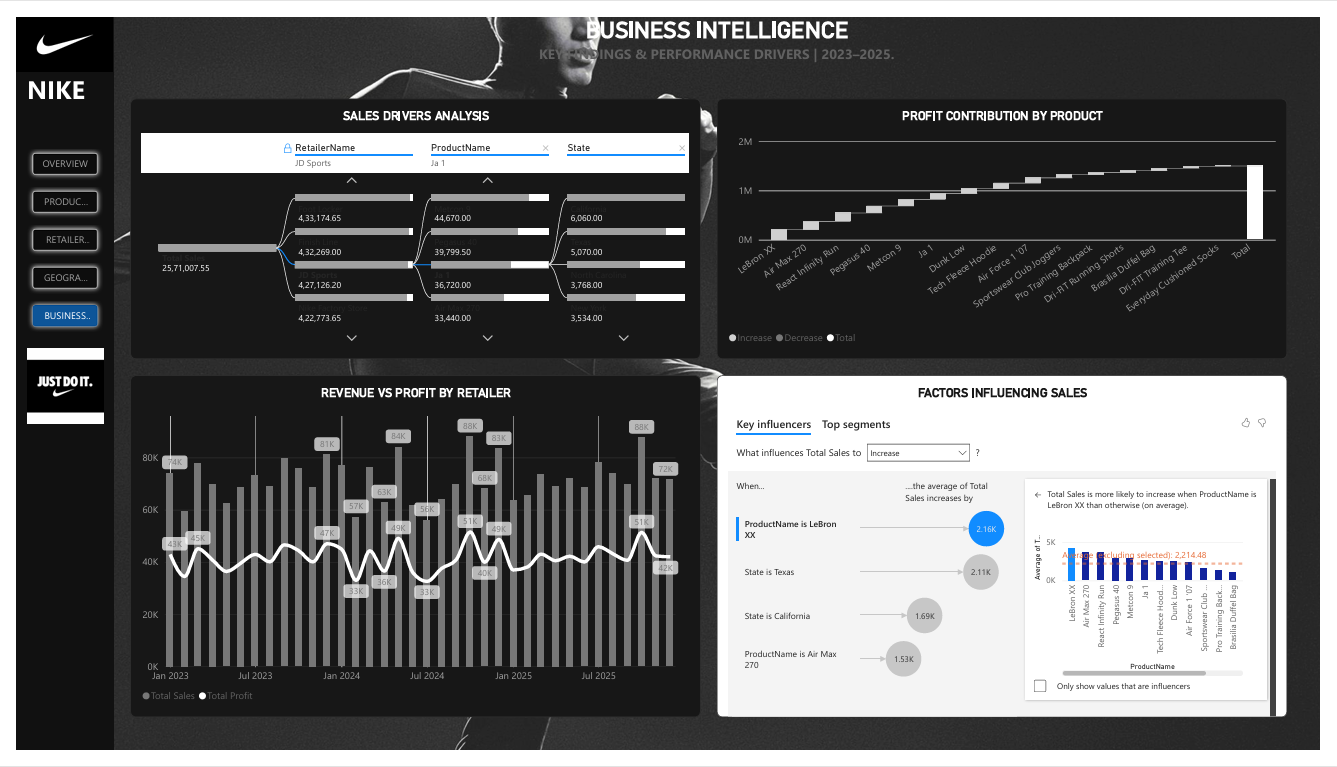

This screenshot's page, from the dashboard's own definition file:
{"tool":"powerbi","page":{"name":"BUSINESS INSIGHTS","canvas":[1920,1080],"ordinal":4},"visuals":[{"type":"group","id":"g1","title":"Group 1","box":[0,0,144,1080],"z":0},{"type":"image","box":[0,0,144,80],"z":1000},{"type":"textbox","title":"BUSINESS INSIGHTS","box":[144,0,1776,72],"z":2000},{"type":"decompositionTreeVisual","title":"SALES DRIVERS ANALYSIS","fields":{"Analyze":["FactOrders.Total Sales"],"ExplainBy":["DimRetailer.RetailerName","DimProduct.ProductName","DimGeography.State"]},"box":[168,120,840,384],"z":3000},{"type":"lineClusteredColumnComboChart","title":"REVENUE VS PROFIT BY RETAILER","fields":{"Category":["DimDate.MonthYear"],"Y":["FactOrders.Total Sales"],"Y2":["FactOrders.Total Profit"]},"box":[168,528,840,504],"z":4000},{"type":"waterfallChart","title":"PROFIT CONTRIBUTION BY PRODUCT","fields":{"Category":["DimProduct.ProductName"],"Y":["FactOrders.Total Profit"]},"box":[1032,120,840,384],"z":5000},{"type":"keyDriversVisual","title":"FACTORS INFLUENCING SALES","fields":{"ExplainBy":["DimProduct.ProductName","DimRetailer.RetailerName","DimGeography.State"],"Target":["FactOrders.Total Sales"]},"box":[1032,528,840,504],"z":6000},{"type":"pageNavigator","box":[16,192,112,272],"z":7000},{"type":"image","box":[16,480,112,128],"z":9000},{"type":"shape","box":[0,0,144,1080],"z":10000,"group":"g1"},{"type":"textbox","box":[16,80,112,64],"z":11000,"group":"g1"}]}

Visuals, with their boxes on the page's 1920x1080 design canvas (x1, y1, x2, y2). These are canvas units, not pixel positions in the 1337x767 screenshot, which may show the page scaled, cropped or inside an application window:
"Group 1" group: 0,0,144,1080
image: 0,0,144,80
"BUSINESS INSIGHTS" textbox: 144,0,1920,72
"SALES DRIVERS ANALYSIS" decompositionTreeVisual: 168,120,1008,504
"REVENUE VS PROFIT BY RETAILER" lineClusteredColumnComboChart: 168,528,1008,1032
"PROFIT CONTRIBUTION BY PRODUCT" waterfallChart: 1032,120,1872,504
"FACTORS INFLUENCING SALES" keyDriversVisual: 1032,528,1872,1032
pageNavigator: 16,192,128,464
image: 16,480,128,608
shape: 0,0,144,1080
textbox: 16,80,128,144
